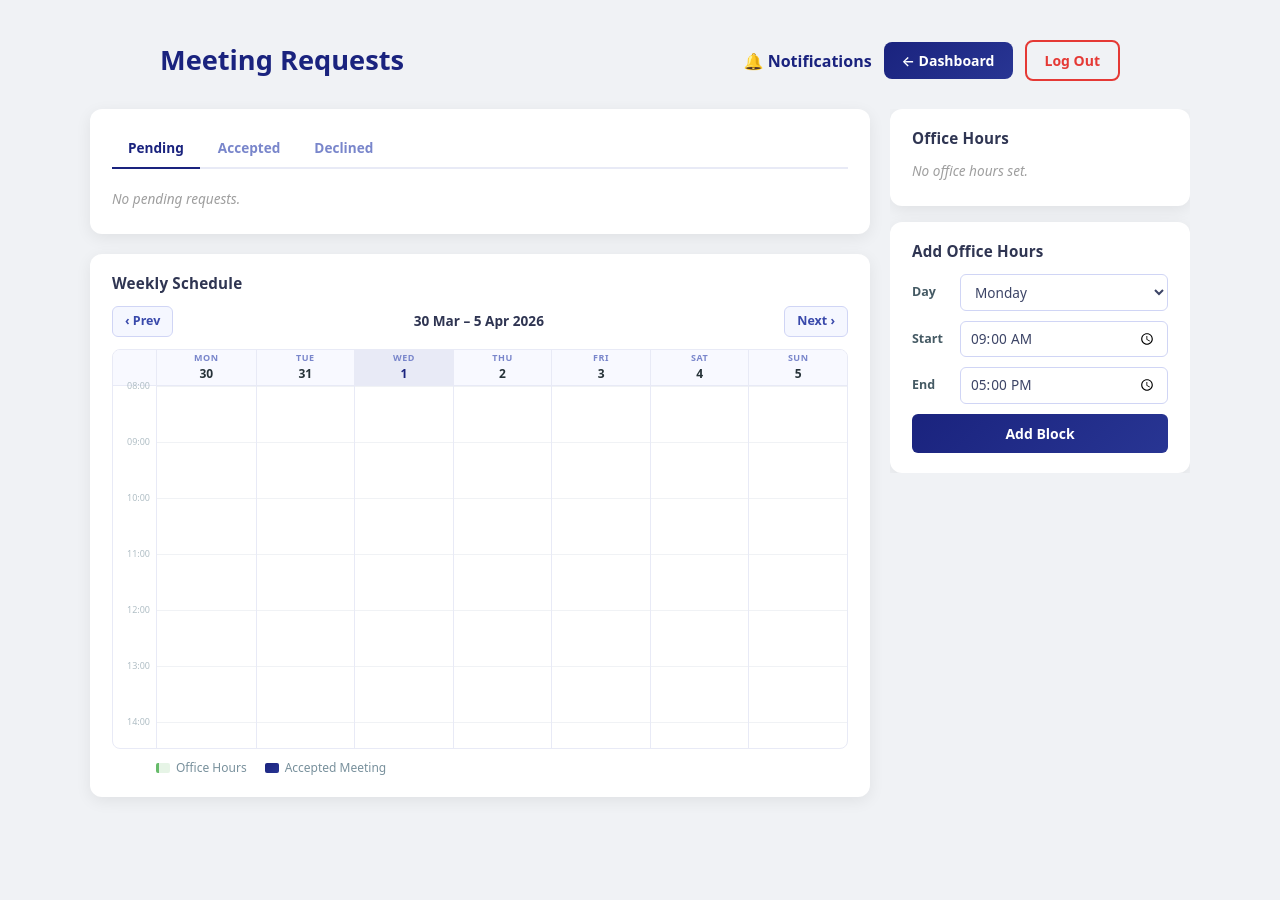
StaffMeetingRequestsPage › shows add office hours error
Click the button "Add Block" at (1040, 433), box [912, 414, 1168, 453]
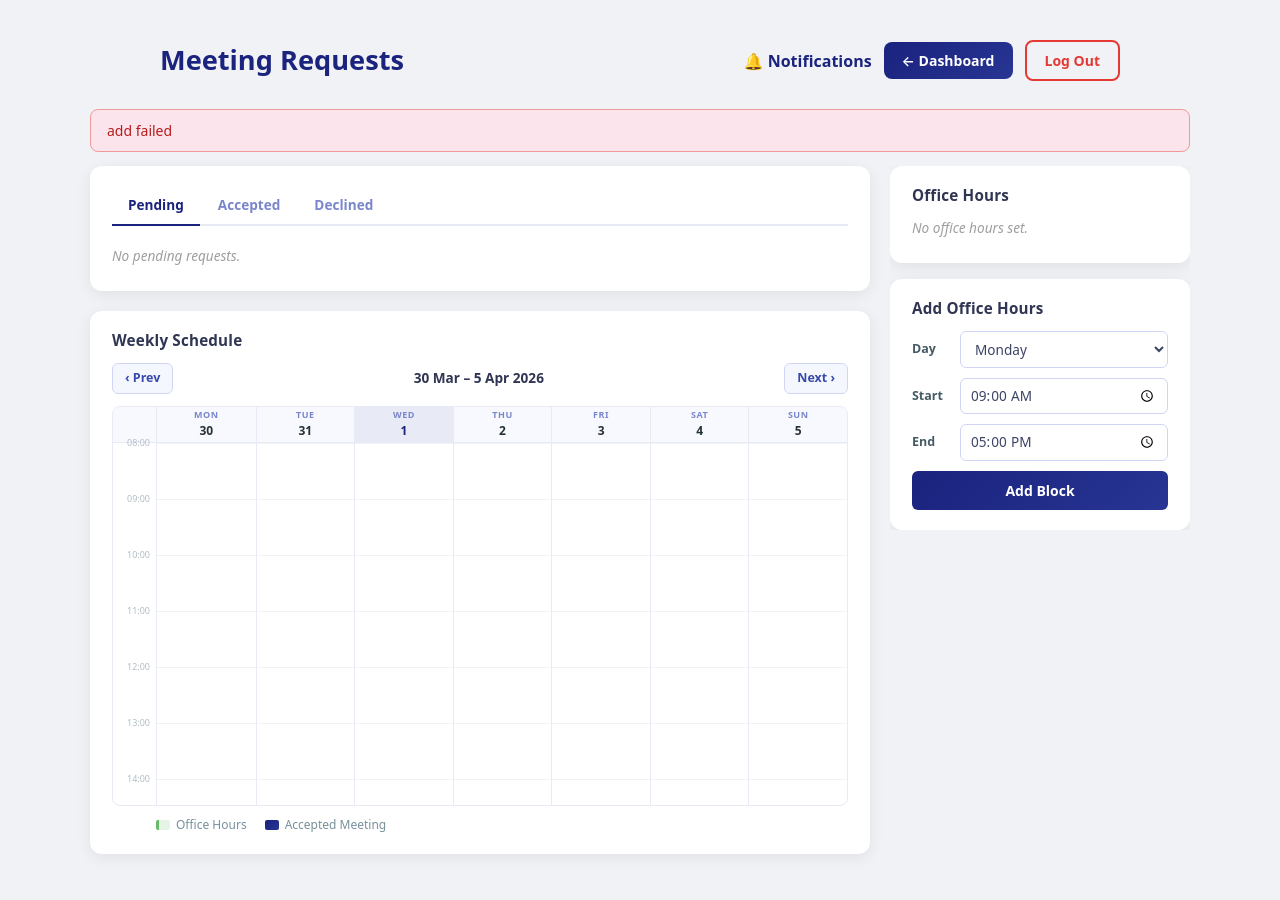
Check: the text "add failed" is shown, box [90, 109, 1190, 152]
